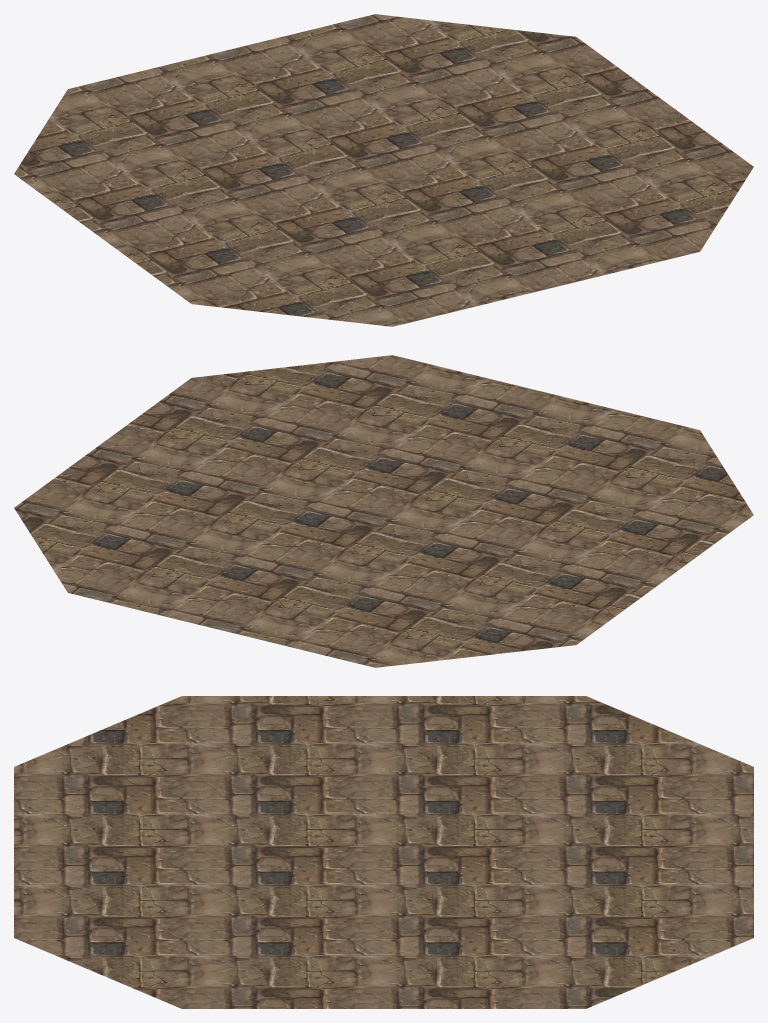
File: A03_battle_floor_a_01_col.FBX
The picture shows the model from 3 angles, top to bottom: view 1: azimuth 30°, elevation 25°; view 2: azimuth 150°, elevation 25°; view 3: azimuth 270°, elevation 25°; orthographic projection. The views are drawn at different scales.
Visible parts, largest first — view 1: A03_battle_floor_a_01_col; view 2: A03_battle_floor_a_01_col; view 3: A03_battle_floor_a_01_col.
Part boxes in pixels (x1,y1,x2,y2): A03_battle_floor_a_01_col: (14,14,753,326); A03_battle_floor_a_01_col: (14,355,753,667); A03_battle_floor_a_01_col: (14,696,753,1008).
Size of the model in its own units: 18.65 by 8.52e-06 by 18.65.
